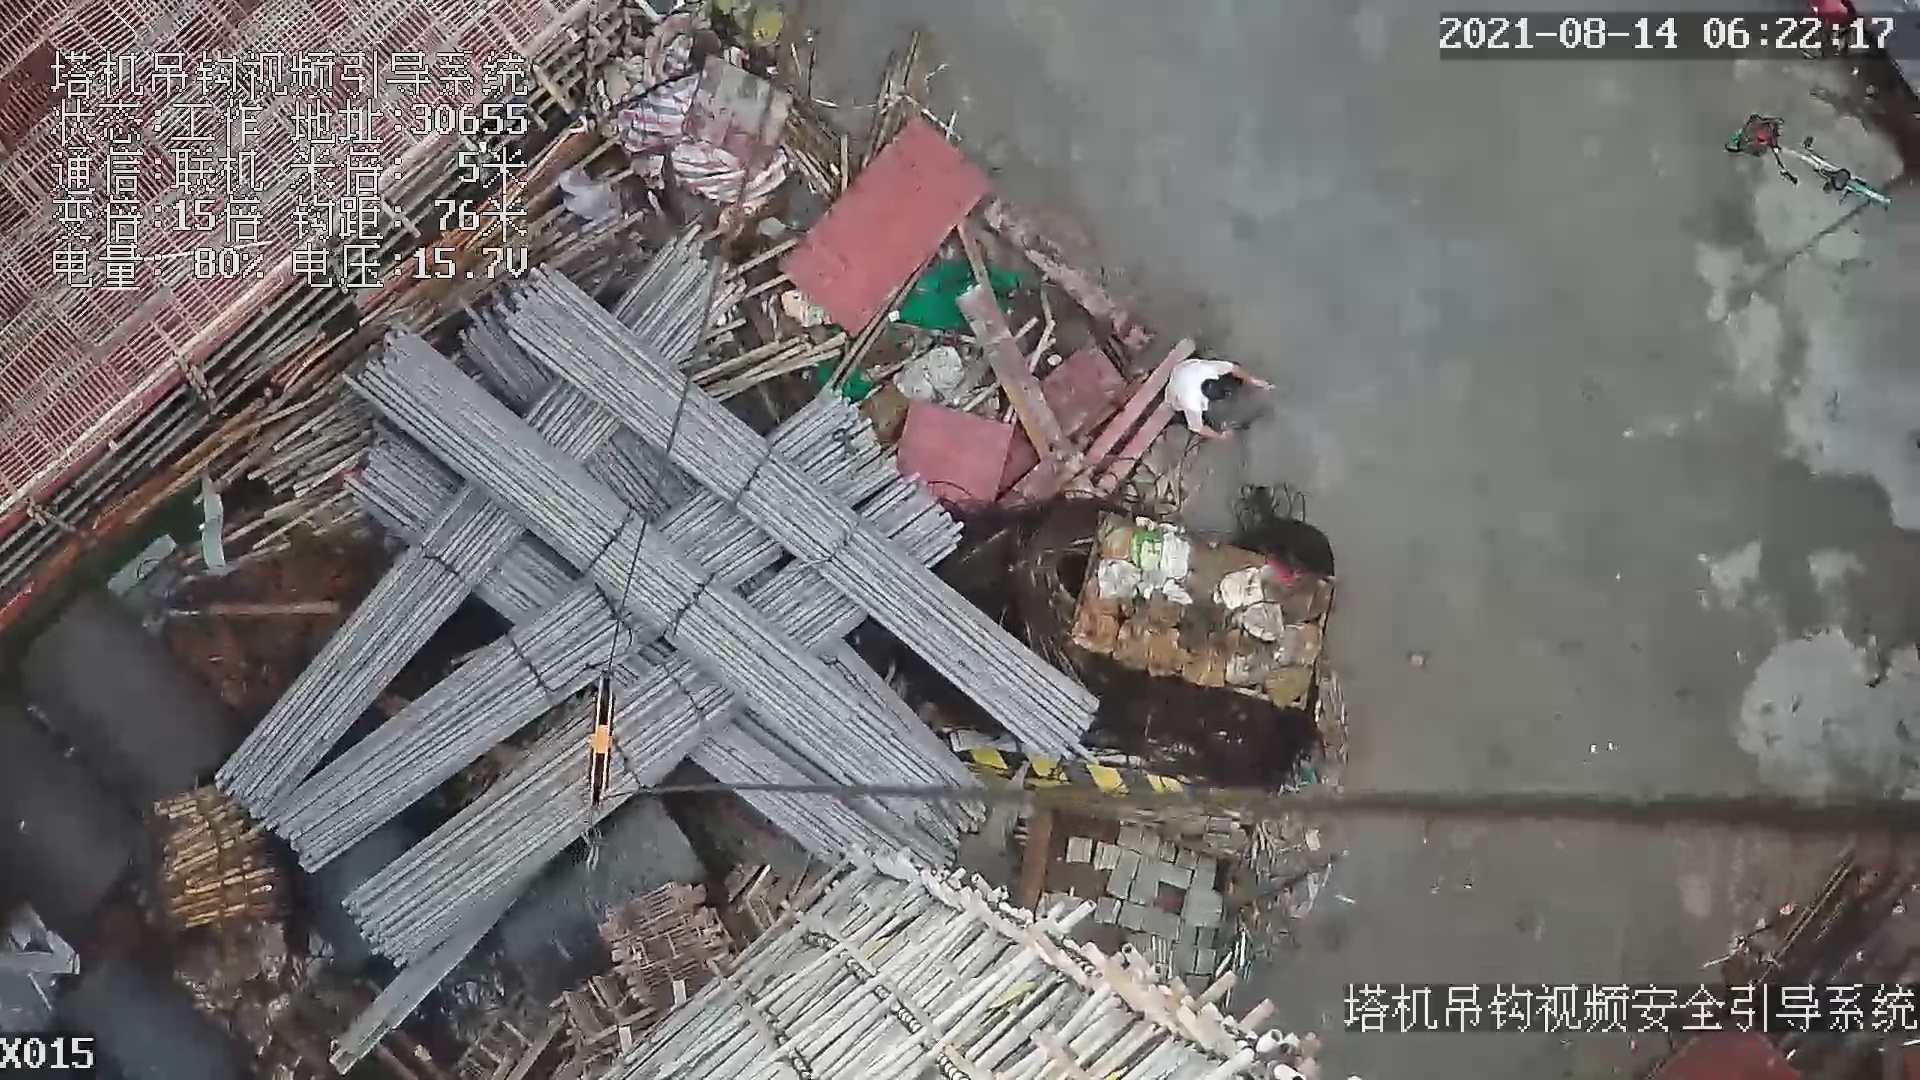hook: (574, 672, 626, 809)
person: (1167, 351, 1274, 458)
